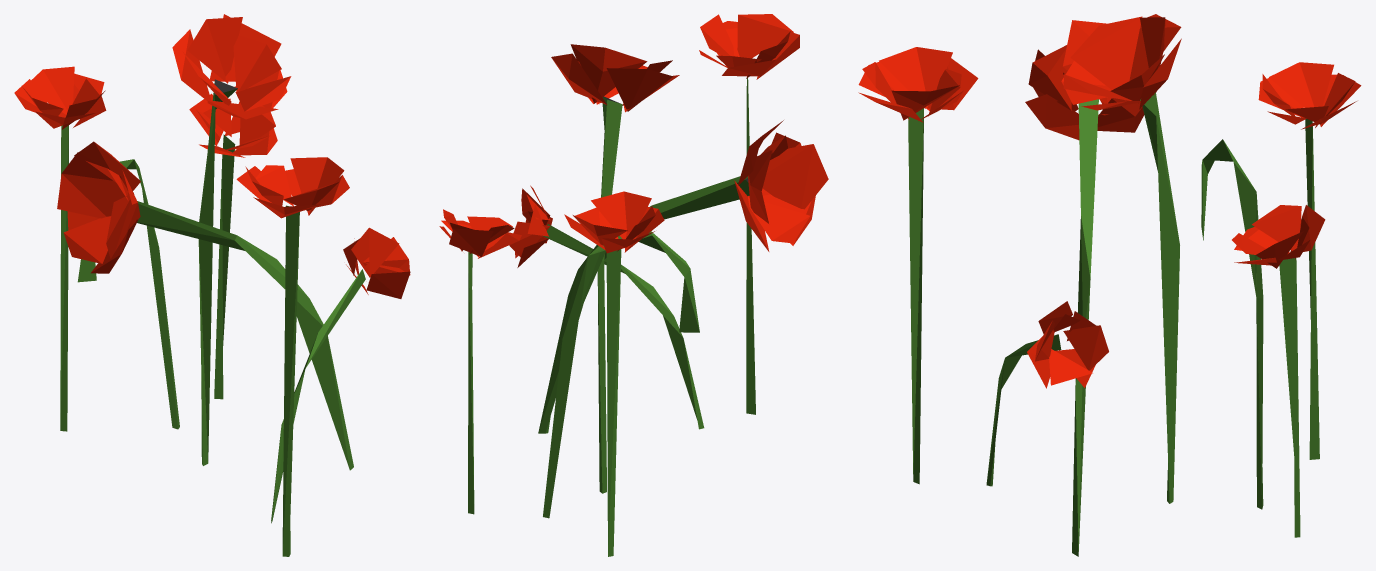
Rendered from SM_Mak_001_LOD2.fbx.
3 views of the same model, side by side, from view 1: azimuth 30°, elevation 25°; view 2: azimuth 150°, elevation 25°; view 3: azimuth 270°, elevation 25° (orthographic). The views are drawn at different scales.
Parts seen in each view (by area): view 1: Mak; view 2: Mak; view 3: Mak.
Boxes of the visible parts, x1,y1,x2,y2 form: Mak: [14, 14, 410, 556]; Mak: [439, 14, 828, 556]; Mak: [858, 14, 1361, 556].
Size of the model in its own units: 21.46 by 29.9 by 28.18.
